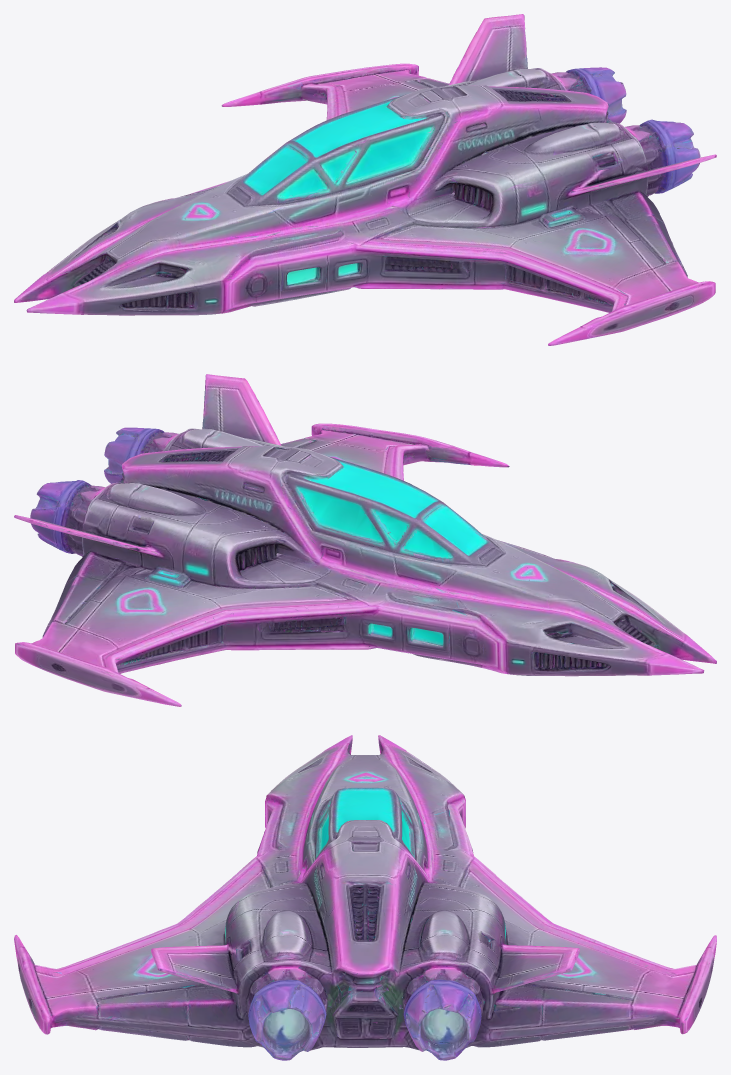
File: ship_a.glb
3 views of the same model, one above another, from view 1: azimuth 30°, elevation 25°; view 2: azimuth 150°, elevation 25°; view 3: azimuth 270°, elevation 25° (orthographic). The views are drawn at different scales.
Visible parts, largest first — view 1: Mesh_0; view 2: Mesh_0; view 3: Mesh_0.
Part boxes in pixels (left/top/right/bottom): Mesh_0: left=14, top=14, right=716, bottom=345; Mesh_0: left=14, top=374, right=716, bottom=706; Mesh_0: left=14, top=735, right=716, bottom=1060.
Bounding box in the file's own units: 1.91 × 0.4415 × 1.72.
1 material, 1 textured.
